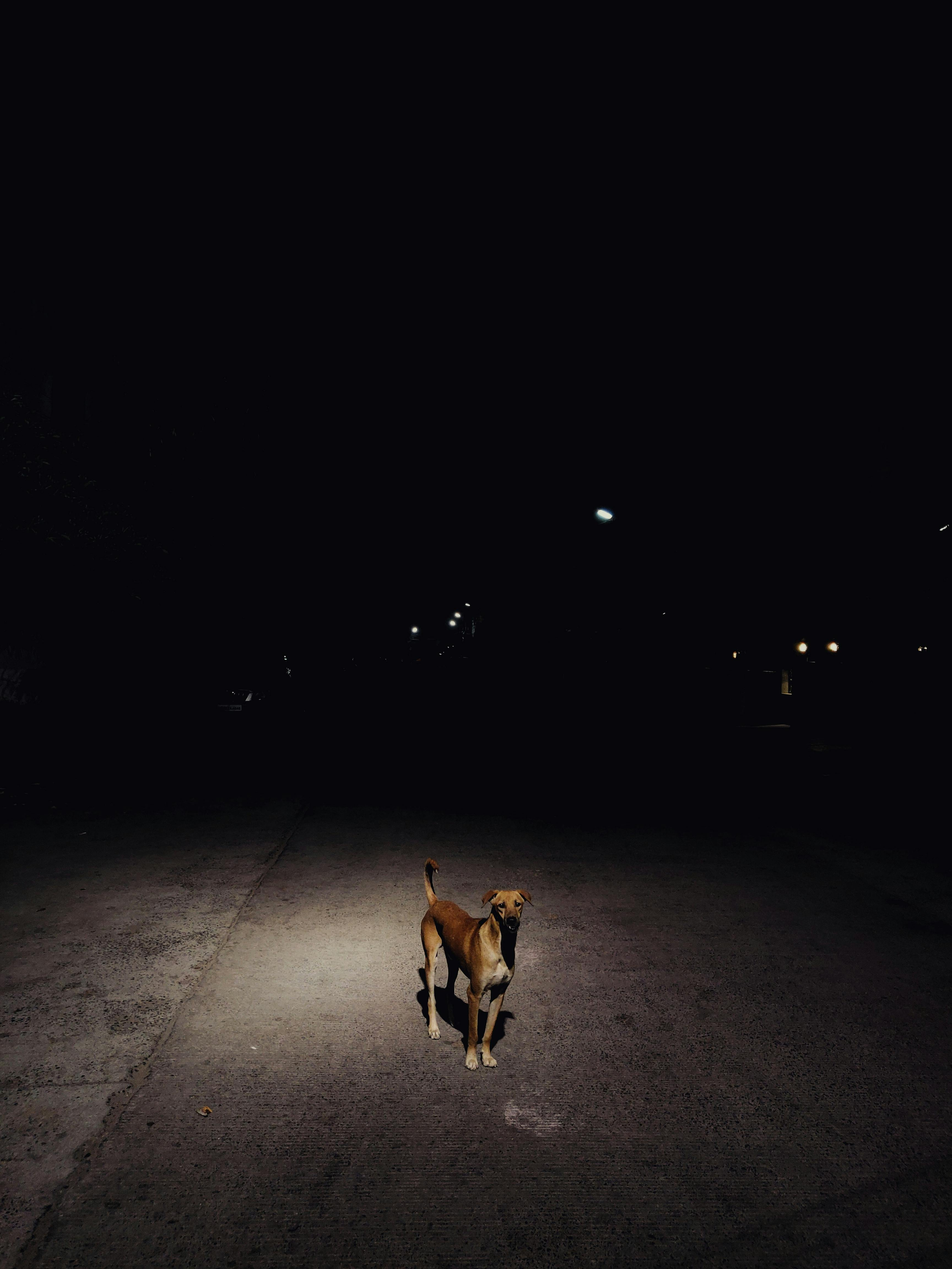Dog: (355, 844, 623, 1070)
